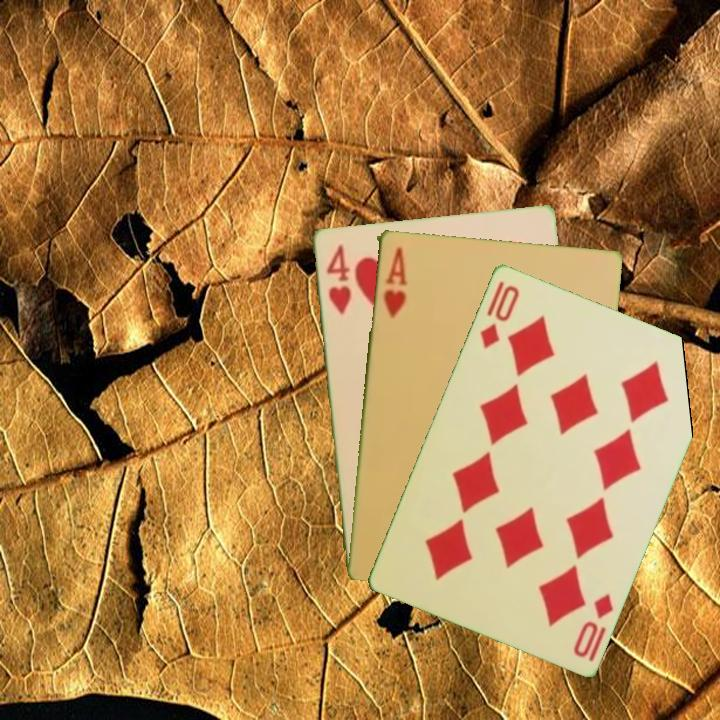10d: (569, 589, 616, 664), (476, 281, 522, 351)
4h: (323, 241, 353, 317)
Ah: (379, 242, 410, 320)
